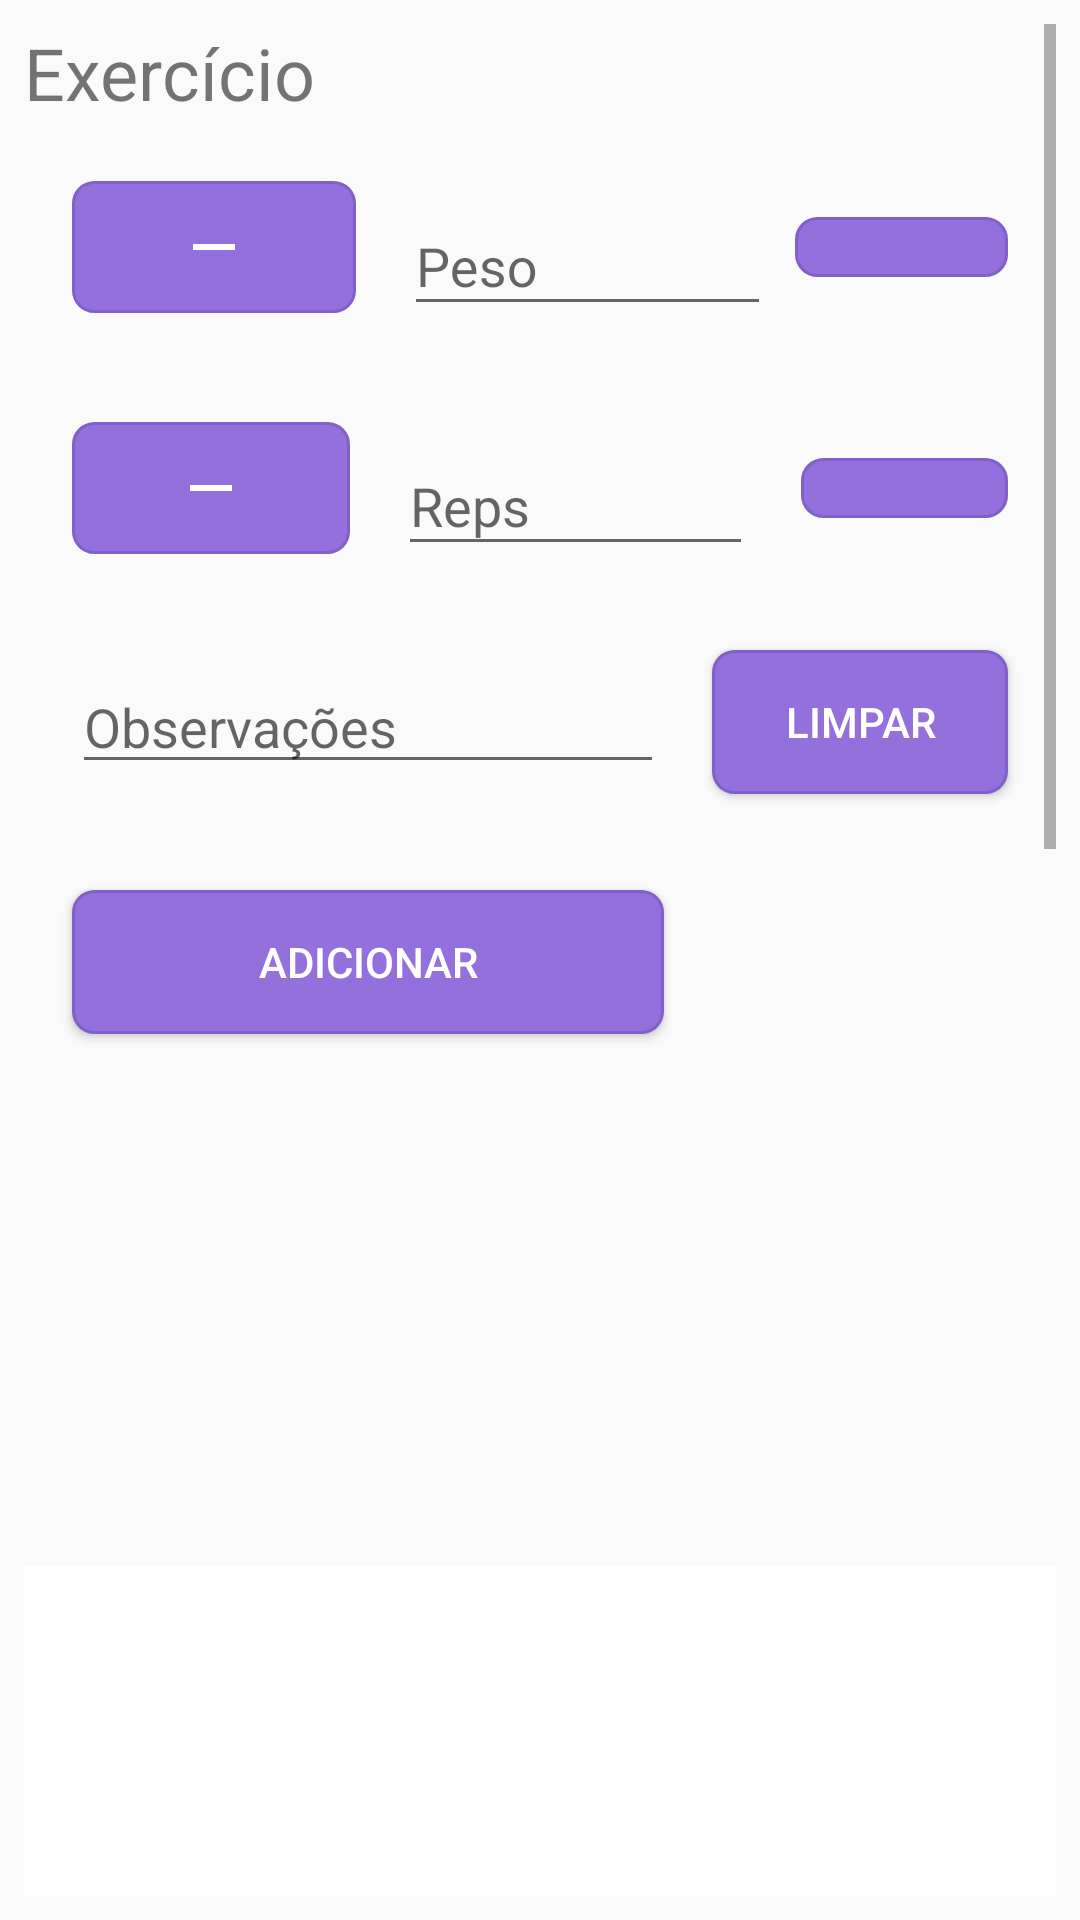

Named icons in this screenshot (1080*1920) and their bounding boxes, (x1, y1, x2, y2):
Subtrair: (72, 181, 356, 313), (72, 422, 350, 554)
